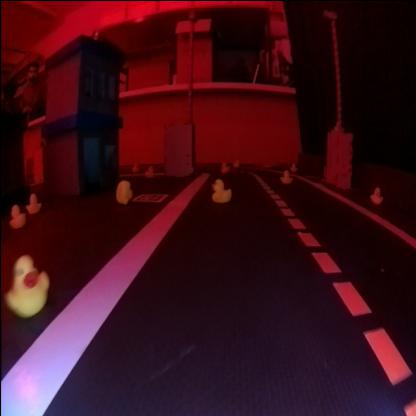Duckie: (6, 254, 48, 314), (212, 178, 232, 200), (116, 180, 132, 202), (10, 204, 24, 228), (28, 192, 40, 212), (370, 184, 381, 202), (280, 169, 291, 181), (146, 165, 152, 173), (132, 162, 136, 170), (233, 158, 238, 164)
QR code: (136, 192, 166, 200)
